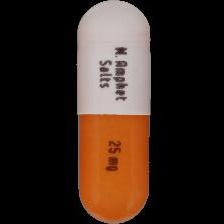0555-0792: (0, 0, 224, 224)
